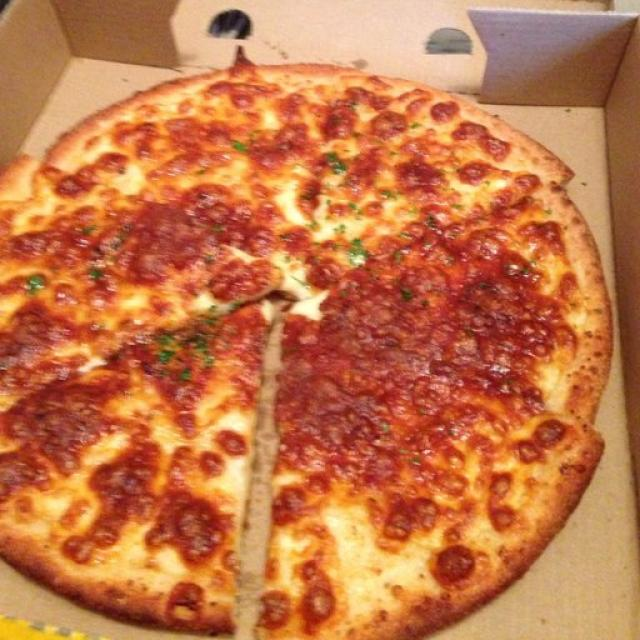Pizza: (0, 62, 610, 640)
